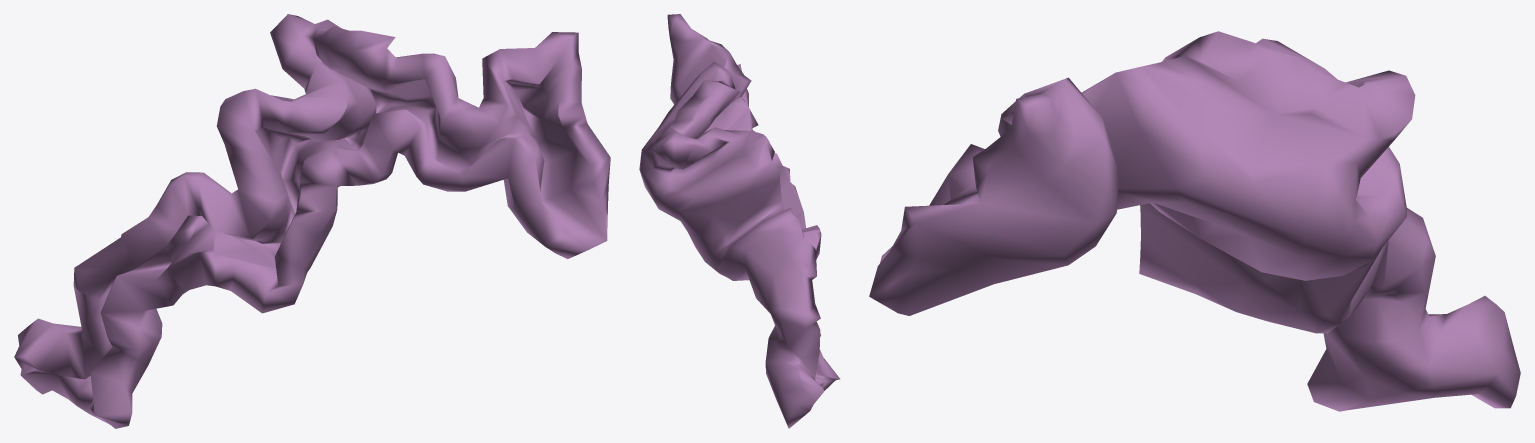
3 views of the same model, side by side, from view 1: azimuth 30°, elevation 25°; view 2: azimuth 150°, elevation 25°; view 3: azimuth 270°, elevation 25° (orthographic). The views are drawn at different scales.
Visible parts, largest first — view 1: 右侧中央后沟; view 2: 右侧中央后沟; view 3: 右侧中央后沟.
Part boxes in pixels (x1=…): 右侧中央后沟: x1=14, y1=14, x2=610, y2=428; 右侧中央后沟: x1=639, y1=14, x2=840, y2=428; 右侧中央后沟: x1=869, y1=31, x2=1520, y2=411.
Size of the model in its own units: 0.0622 by 0.0598 by 0.0659.
